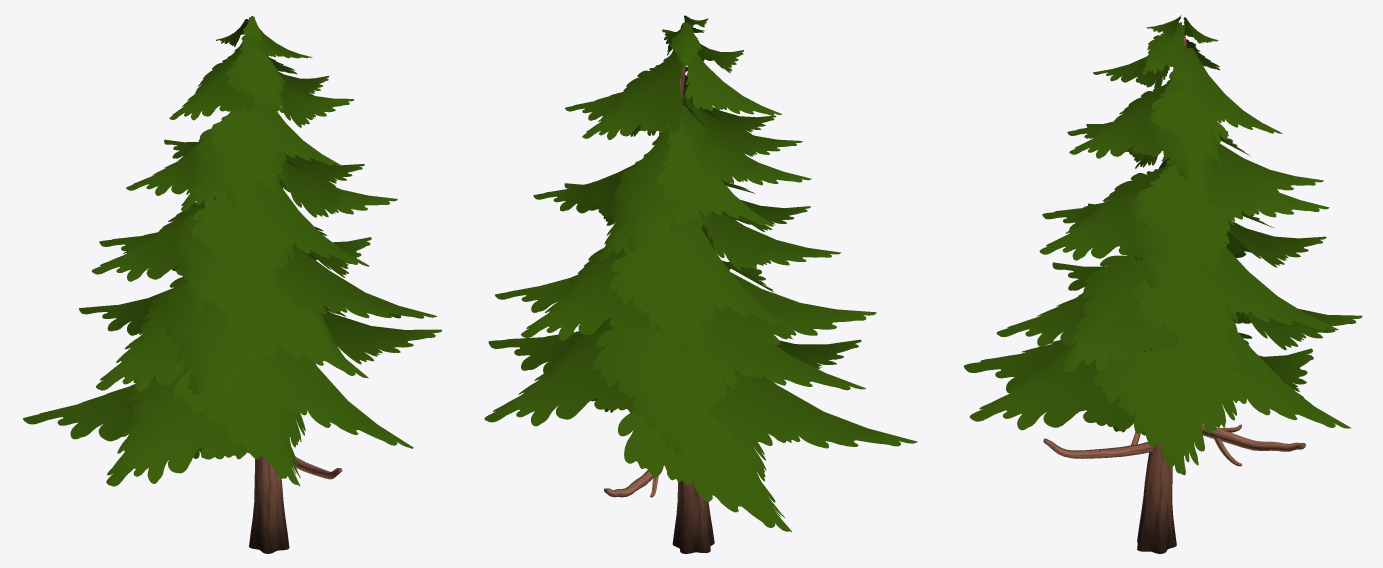
The model's file is Pine_2.glb.
3 renders of one model, left to right at view 1: azimuth 30°, elevation 25°; view 2: azimuth 150°, elevation 25°; view 3: azimuth 270°, elevation 25°, orthographic. The views are drawn at different scales.
Parts seen in each view (by area): view 1: Pine_2; view 2: Pine_2; view 3: Pine_2.
Part boxes in pixels (box(x1,y1,x2,y2)): Pine_2: box(23, 16, 441, 553); Pine_2: box(484, 15, 917, 553); Pine_2: box(963, 15, 1362, 553).
Size of the model in its own units: 5.73 by 7.38 by 5.22.
2 materials, 2 textured.
